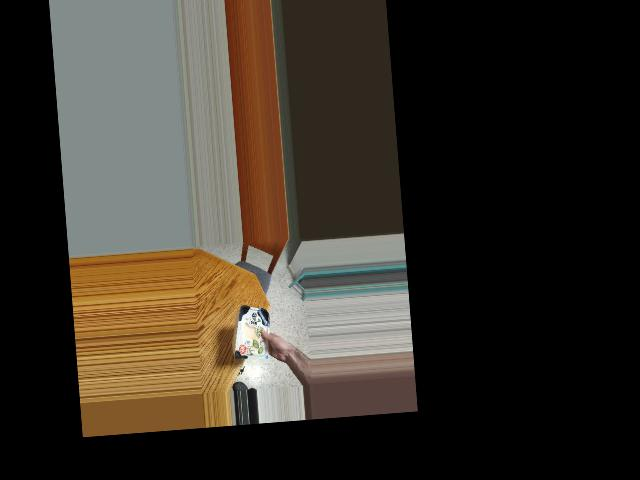cheese: (229, 303, 274, 360)
